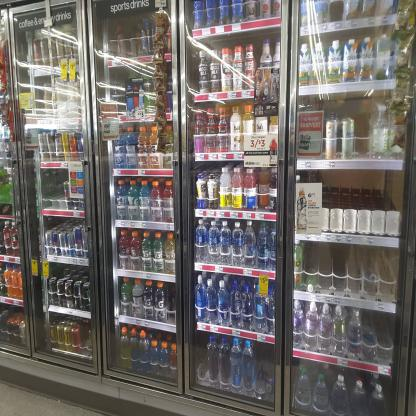Void: (324, 170, 401, 234), (309, 242, 395, 295), (353, 95, 371, 156), (256, 348, 273, 400), (42, 174, 66, 208), (108, 71, 126, 115), (195, 335, 208, 385), (380, 316, 390, 364)
